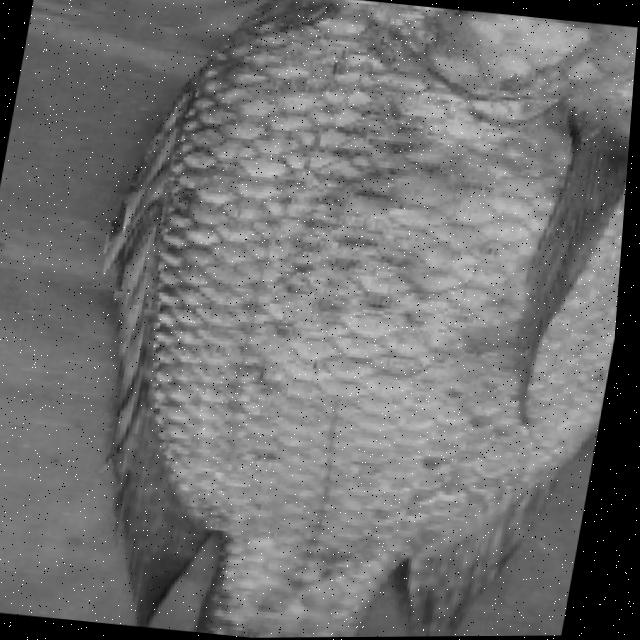Non-Fresh: (107, 0, 640, 535)
